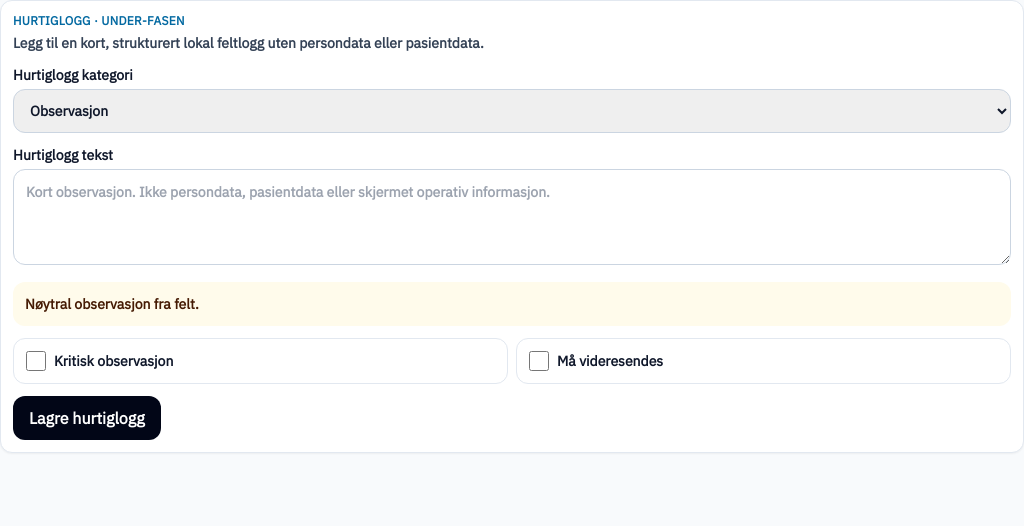
QuickFieldLogComposer › blocks quick field-log text with sensitive operational details
The image size is (1024, 526).
Step 1. Type "fødselsnummer 01017012345" into the text box labelled "Hurtiglogg tekst" → (512, 217), box x1=13 y1=169 x2=1011 y2=265
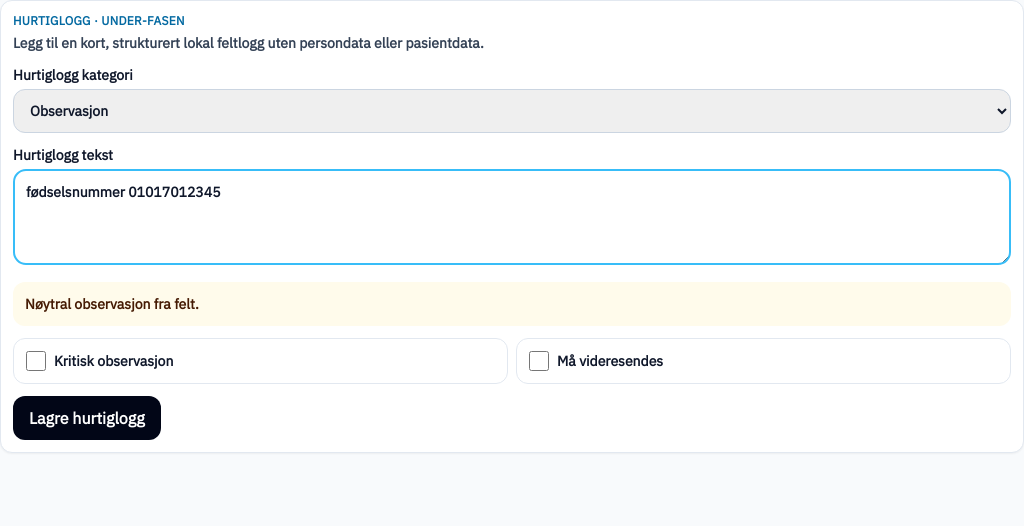
Step 2. Click the button "Lagre hurtiglogg" → (87, 418), box x1=13 y1=396 x2=161 y2=440
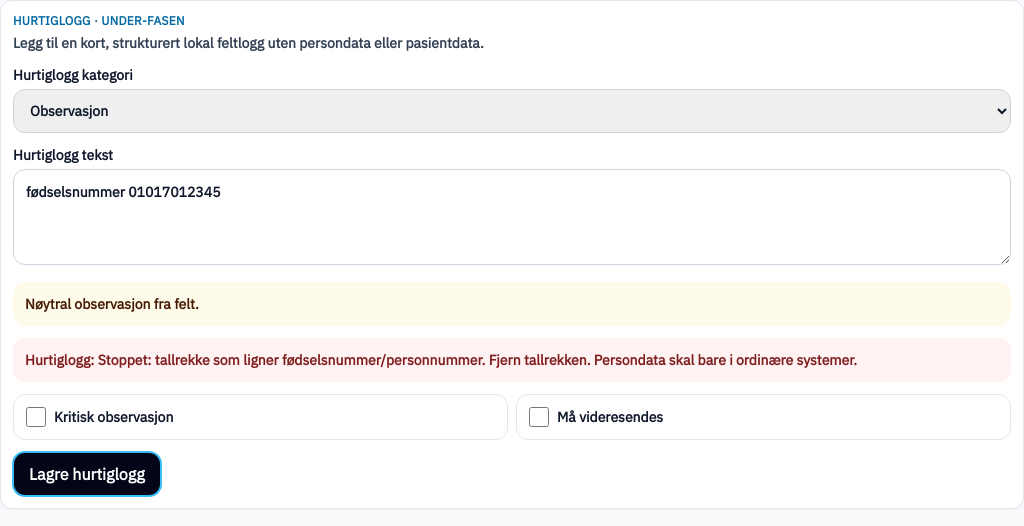
Expected: the message does not show "01017012345", x1=13 y1=338 x2=1011 y2=382
Expected: the message shows "persondata", x1=25 y1=351 x2=857 y2=369
